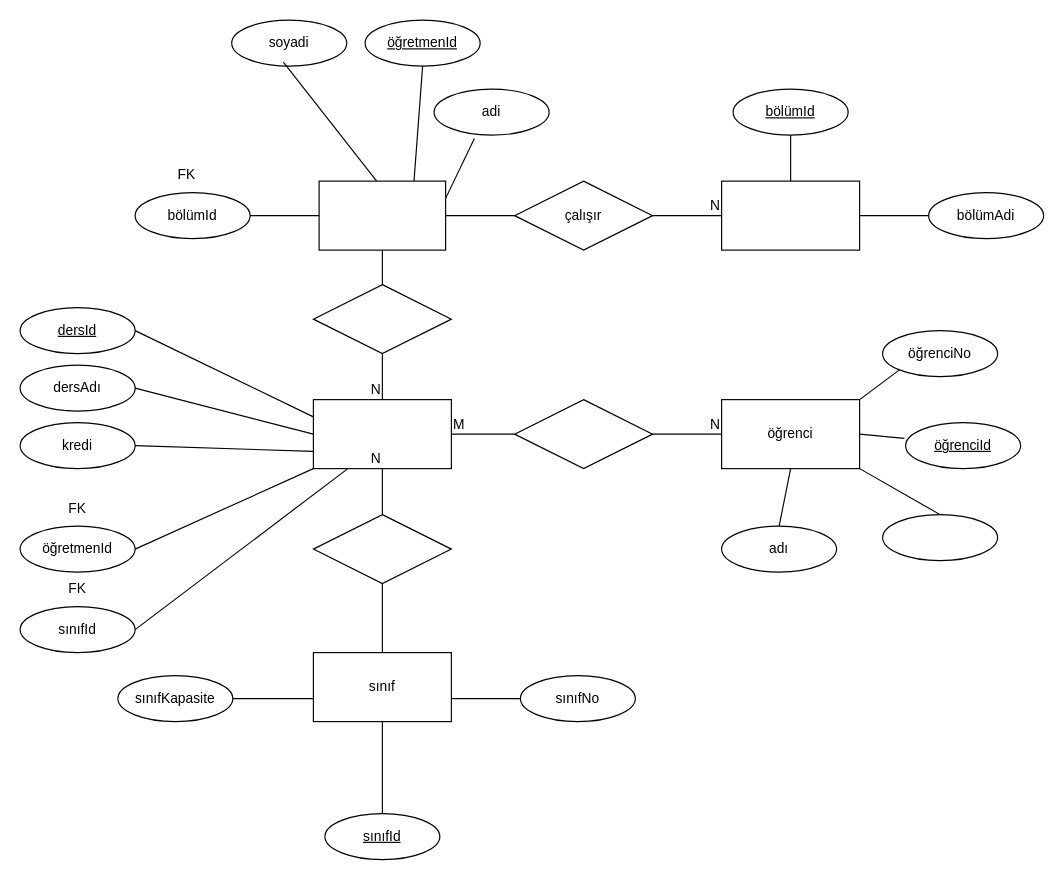
The diagram is 1064 pixels wide and 880 high, and some of its shapes have lost their labels. Here are the shapes that lost their labels. From the top down, the centre of each, then its label:
At (382,215): "öğretmen".
At (790,215): "bölüm".
At (381,318): "verir".
At (381,433): "ders".
At (583,433): "kaydolur".
At (381,548): "yapılır".
At (939,537): "soyadı".
